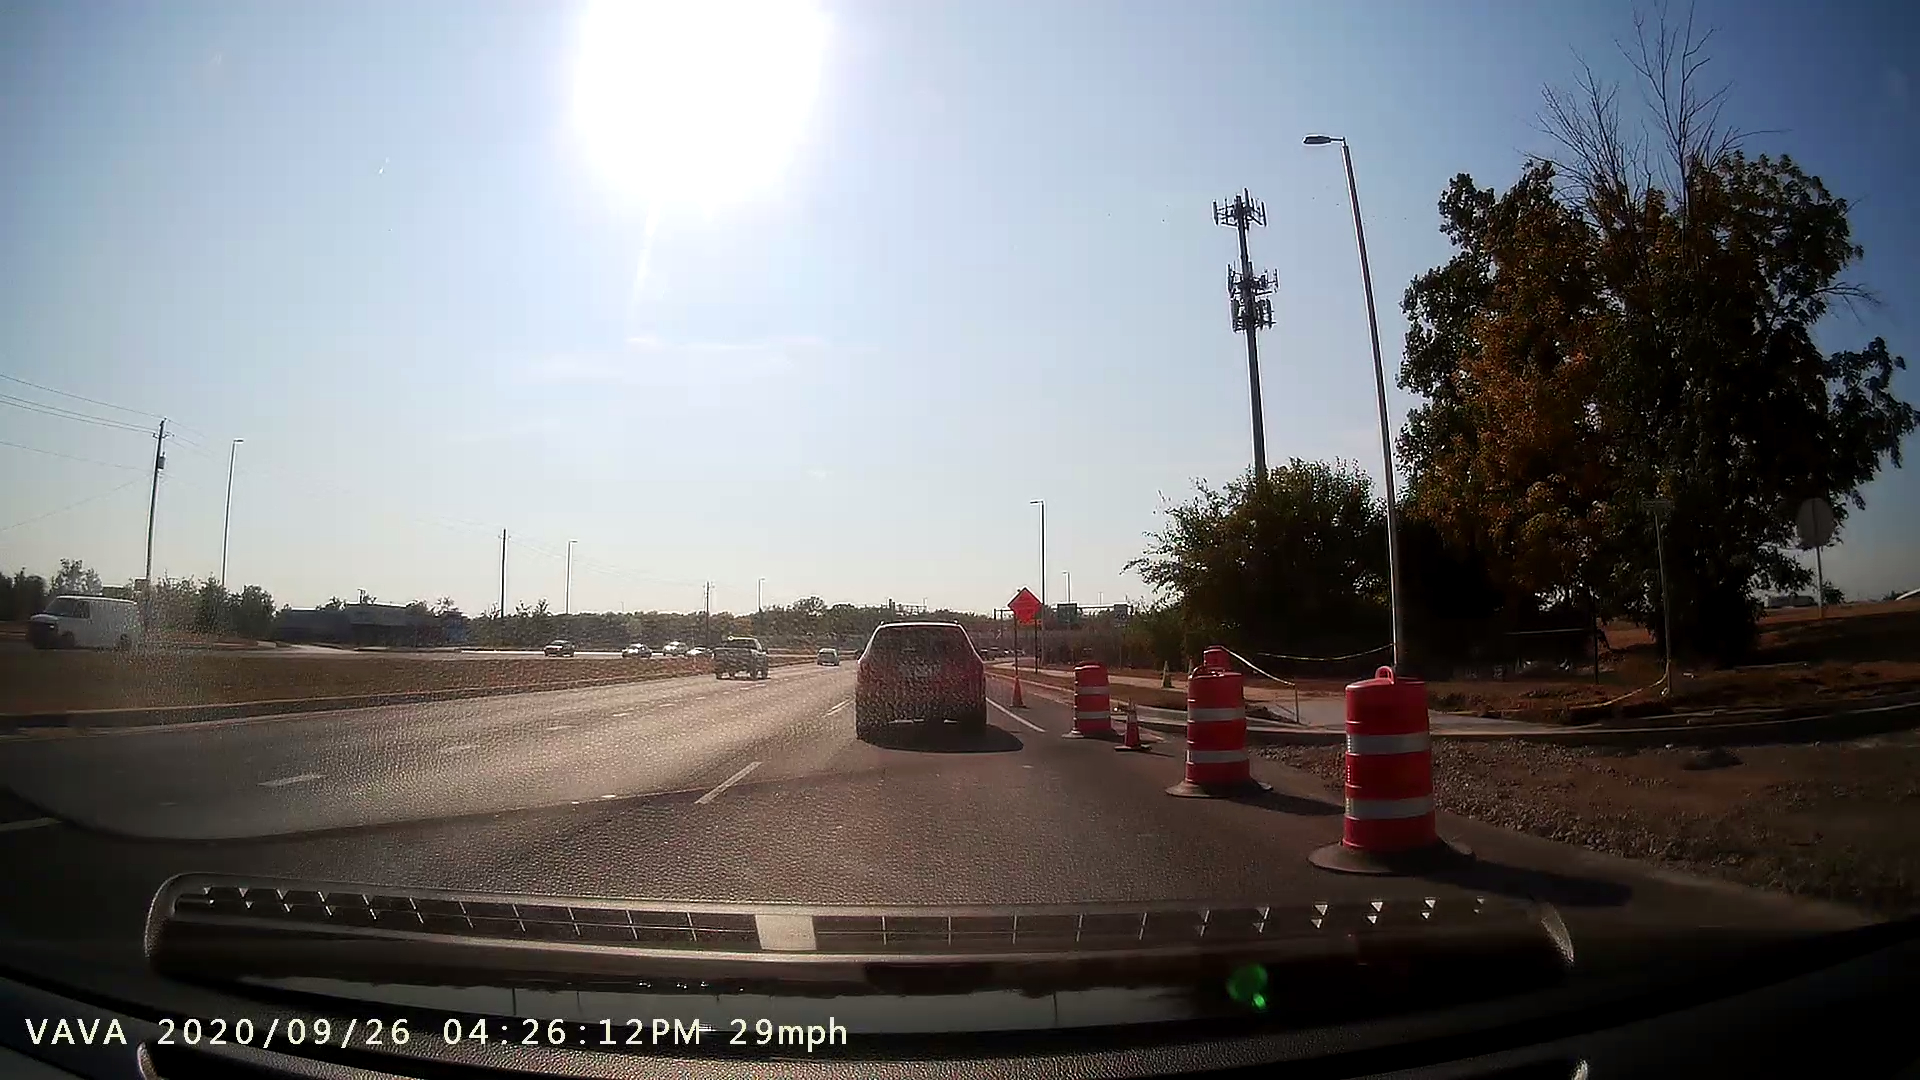const_barrel: (1323, 666, 1472, 876), (1166, 666, 1271, 810), (1048, 655, 1118, 746)
const_cone: (1124, 691, 1150, 764)
